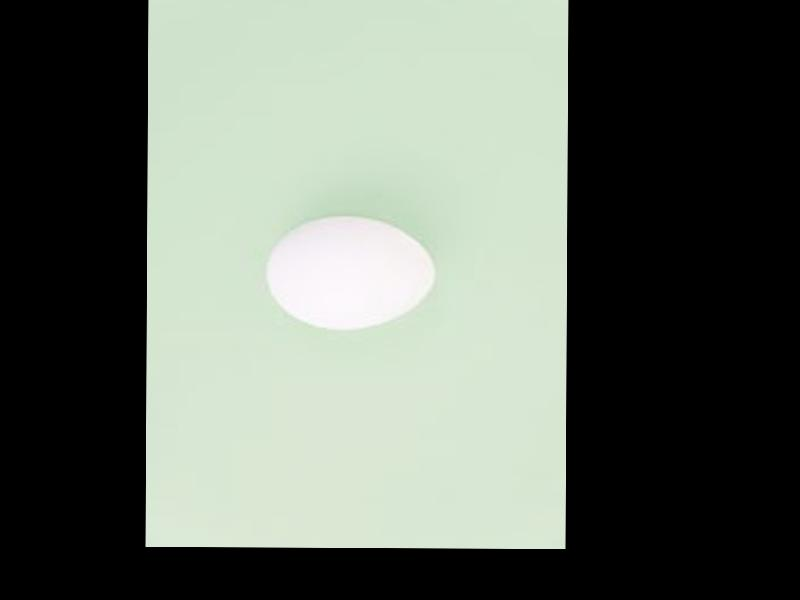Eggs: (264, 214, 435, 330)
